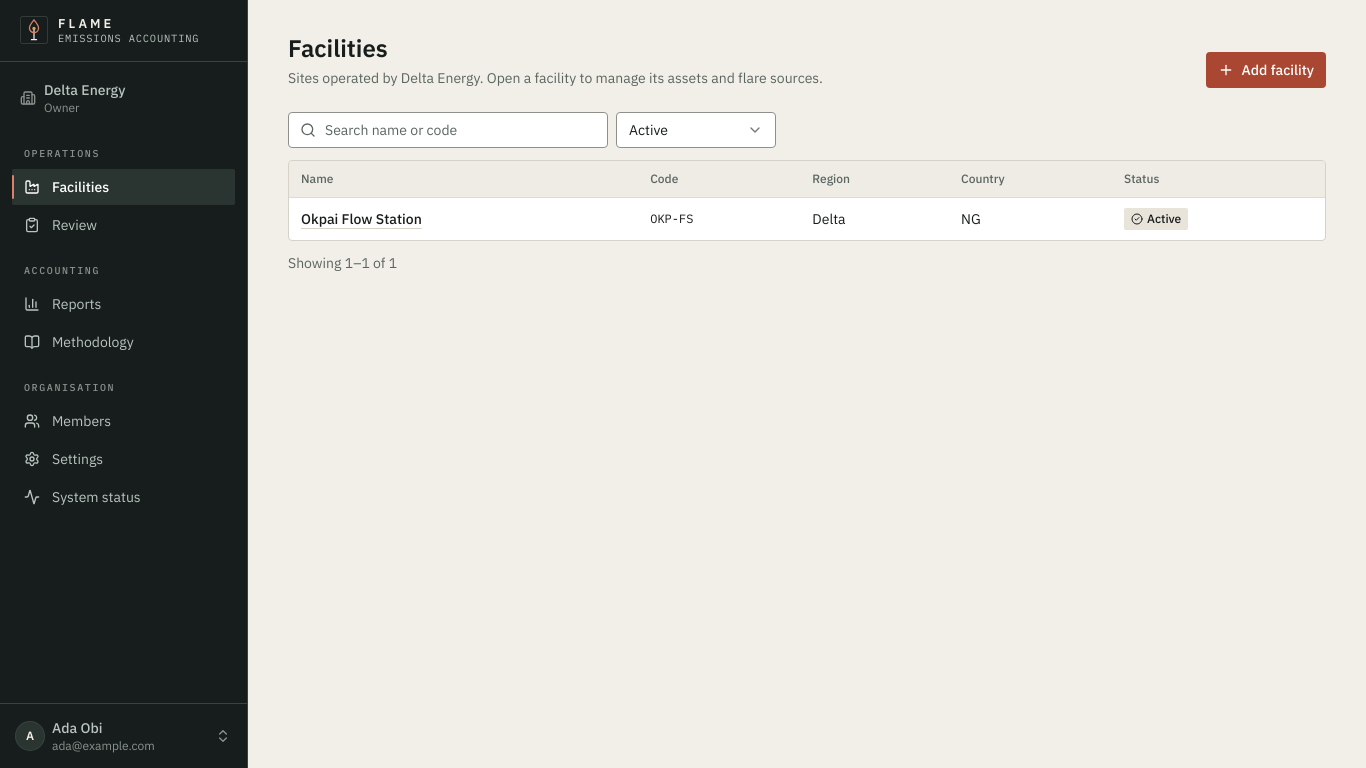
Test case: preloaded data › opens a record from a list instantly, without fetching it again
The image size is (1366, 768).
Step 1. Click the link "Okpai Flow Station" → [361, 218], box [301,210,422,228]
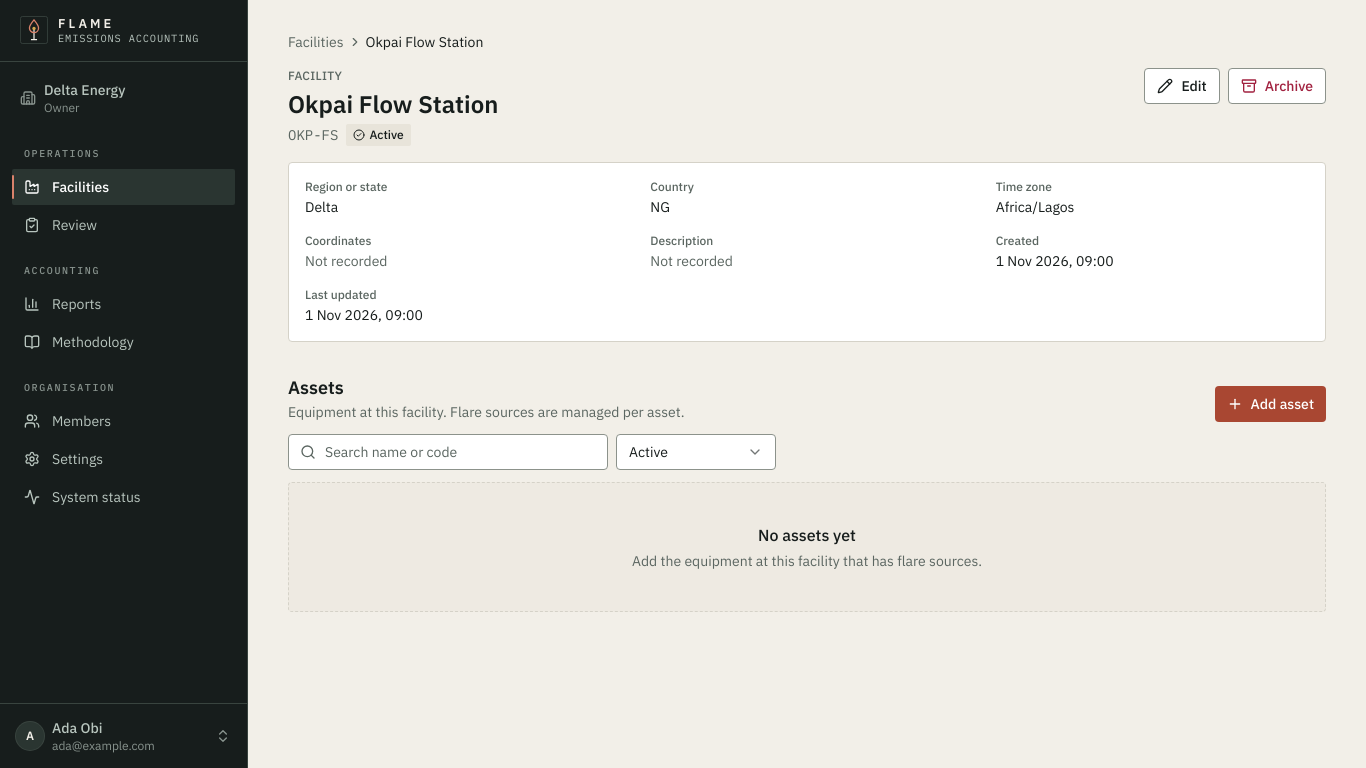
Check: the heading "Okpai Flow Station" is shown, box [288,88,498,120]
